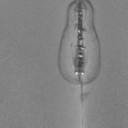slag inclusion: (57, 0, 102, 103)
